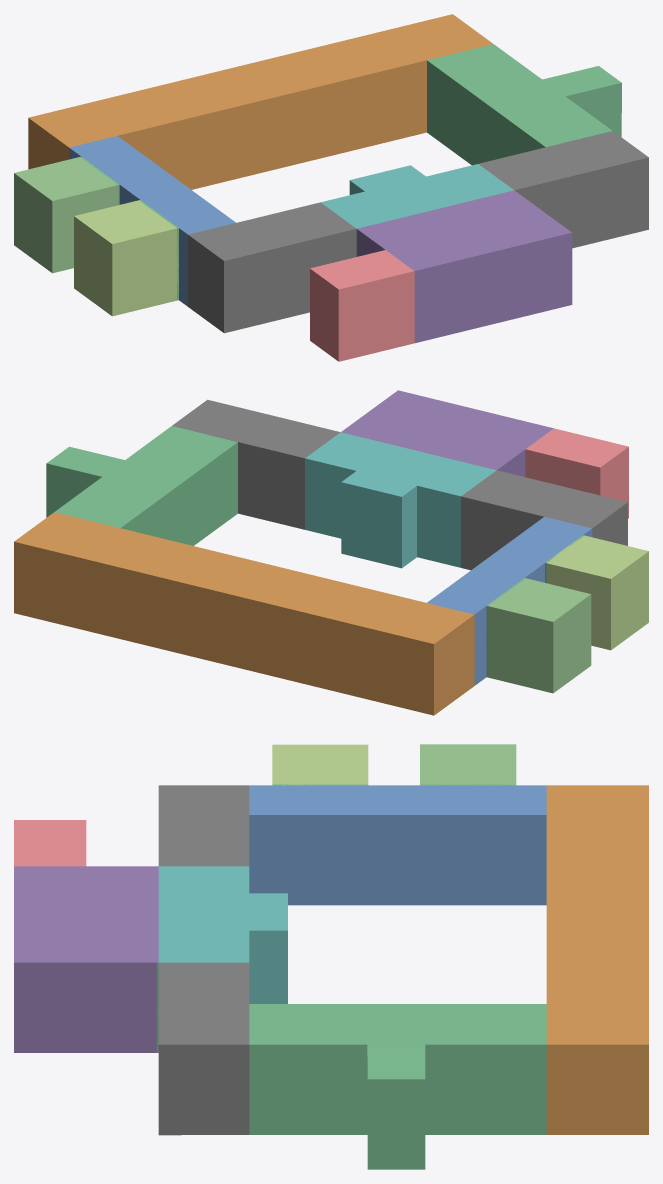
The model's file is LayoutTest.fbx.
3 renders of one model, top to bottom at view 1: azimuth 30°, elevation 25°; view 2: azimuth 150°, elevation 25°; view 3: azimuth 270°, elevation 25°, orthographic. The views are drawn at different scales.
Parts seen in each view (by area): view 1: Layout, Layout.roof; view 2: Layout, Layout.roof; view 3: Layout.roof, Layout.
Part boxes in pixels (box(x1,y1,x2,y2)): Layout: box(14, 60, 648, 361); Layout.roof: box(14, 14, 648, 289); Layout: box(14, 441, 648, 715); Layout.roof: box(14, 390, 648, 643); Layout.roof: box(14, 744, 648, 1079); Layout: box(14, 784, 648, 1169).
Bounding box in the file's own units: 3.27 × 0.4121 × 2.62.
